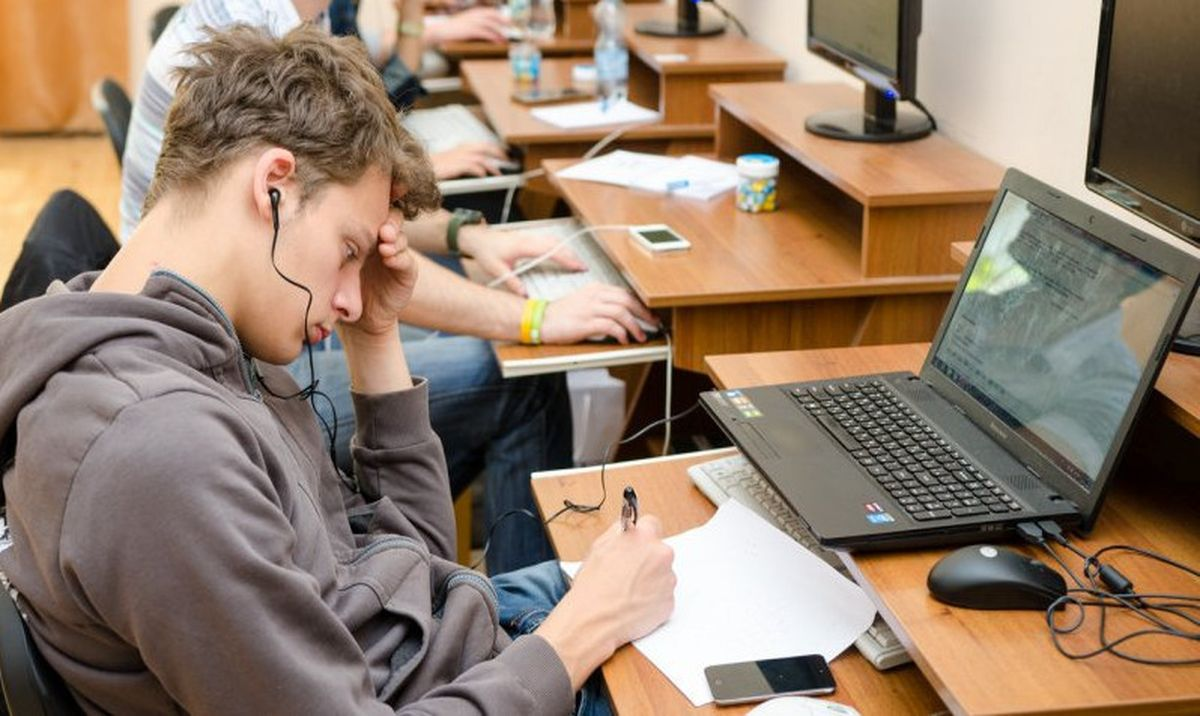students: (1, 28, 679, 714)
